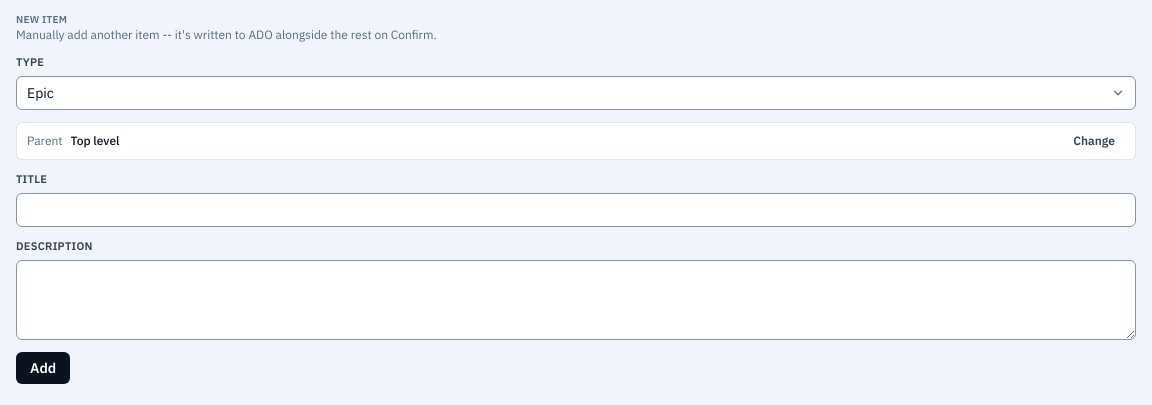
Test: AddChildForm (no parentEntry -- toolbar "New item") › disables Add when switching to a category with no valid parent and no root option
Click the dropdown named "type": (40, 93) x1=16 y1=76 x2=1136 y2=110
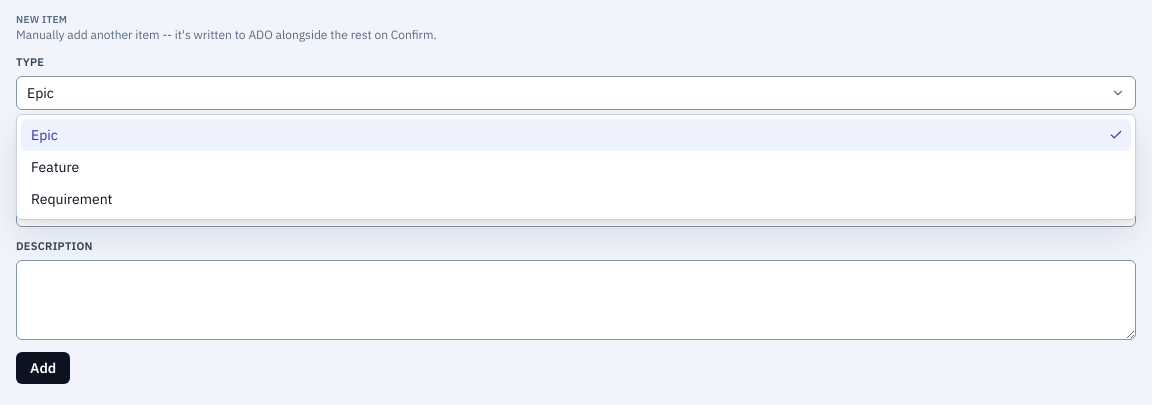
Click the option "Requirement": (72, 199) x1=31 y1=190 x2=112 y2=208
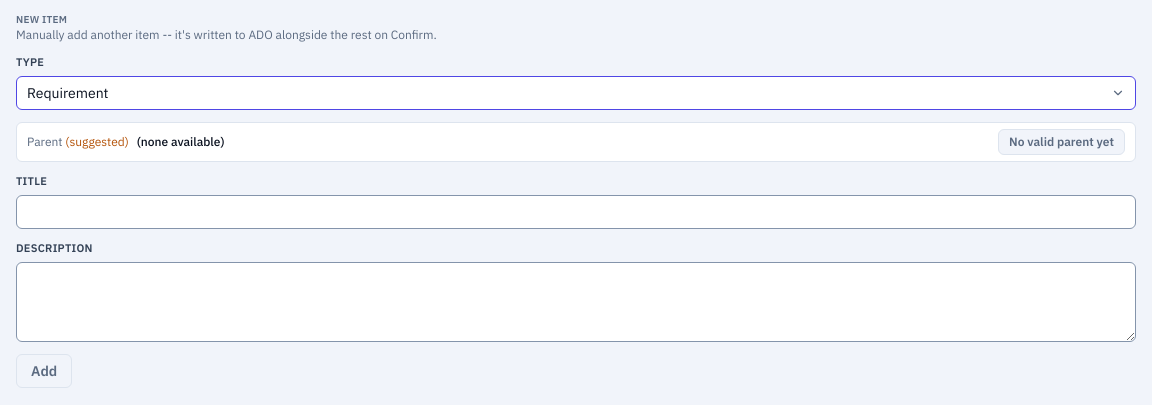
Result: the button "Add" is disabled at x1=16 y1=354 x2=72 y2=388
